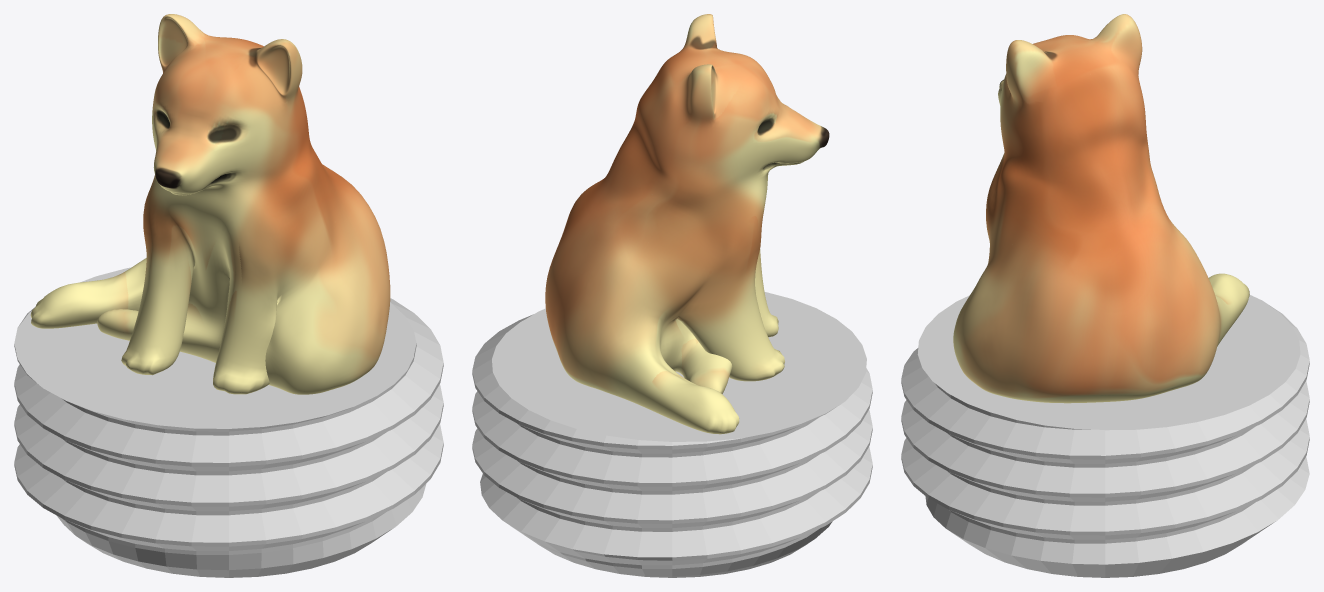
File: cheems.glb
3 renders of one model, left to right at view 1: azimuth 30°, elevation 25°; view 2: azimuth 150°, elevation 25°; view 3: azimuth 270°, elevation 25°, orthographic. The views are drawn at different scales.
Parts seen in each view (by area): view 1: Table, Cube.001; view 2: Table, Cube.001; view 3: Table, Cube.001.
Boxes of the visible parts, bbox=[...] form: Table: bbox=[14, 267, 443, 577]; Cube.001: bbox=[30, 14, 390, 394]; Table: bbox=[472, 292, 872, 577]; Cube.001: bbox=[545, 14, 829, 434]; Table: bbox=[901, 295, 1309, 577]; Cube.001: bbox=[953, 14, 1249, 403].
Bounding box in the file's own units: 1.35 × 1.73 × 1.35.
1 material, 1 textured.
